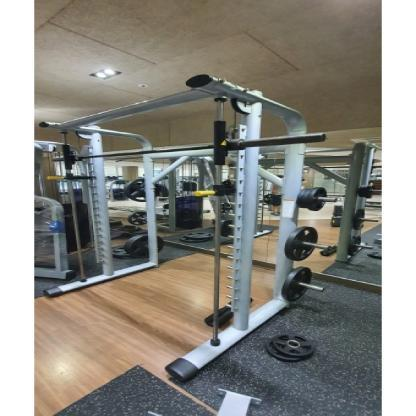smith machine: (40, 76, 311, 382)
